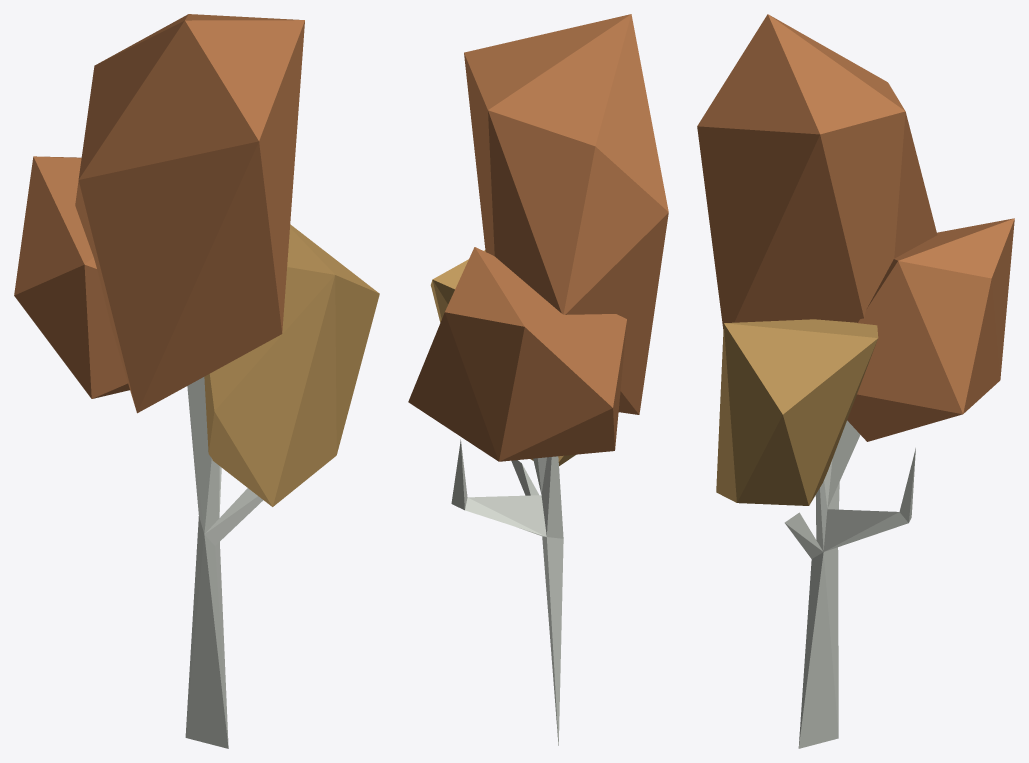
The model's file is BirchTree_Autumn_3.lod3.glb.
3 renders of one model, left to right at view 1: azimuth 30°, elevation 25°; view 2: azimuth 150°, elevation 25°; view 3: azimuth 270°, elevation 25°, orthographic. The views are drawn at different scales.
Visible parts, largest first — view 1: BirchTree_Autumn_3; view 2: BirchTree_Autumn_3; view 3: BirchTree_Autumn_3.
Part boxes in pixels (x1,y1,x2,y2): BirchTree_Autumn_3: [14, 14, 379, 748]; BirchTree_Autumn_3: [408, 14, 668, 745]; BirchTree_Autumn_3: [697, 14, 1014, 748].
Bounding box in the file's own units: 1.57 × 4.08 × 1.66.
